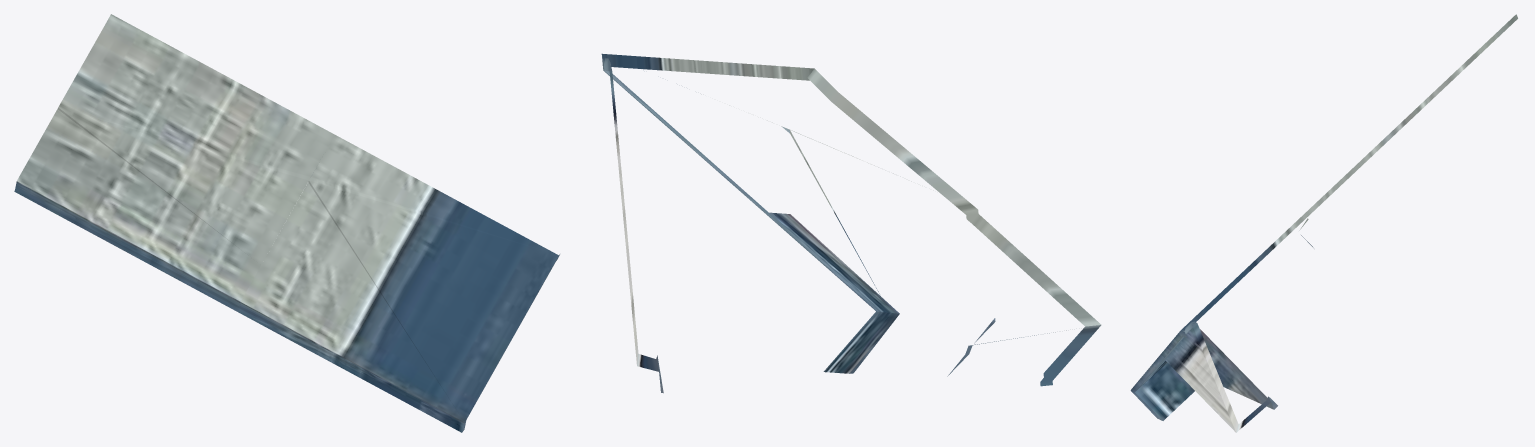
Rendered from masp_tile_5.glb.
3 views of the same model, side by side, from view 1: azimuth 30°, elevation 25°; view 2: azimuth 150°, elevation 25°; view 3: azimuth 270°, elevation 25° (orthographic). The views are drawn at different scales.
Size of the model in its own units: 33.17 by 25.82 by 28.25.
1 material, 1 textured.
